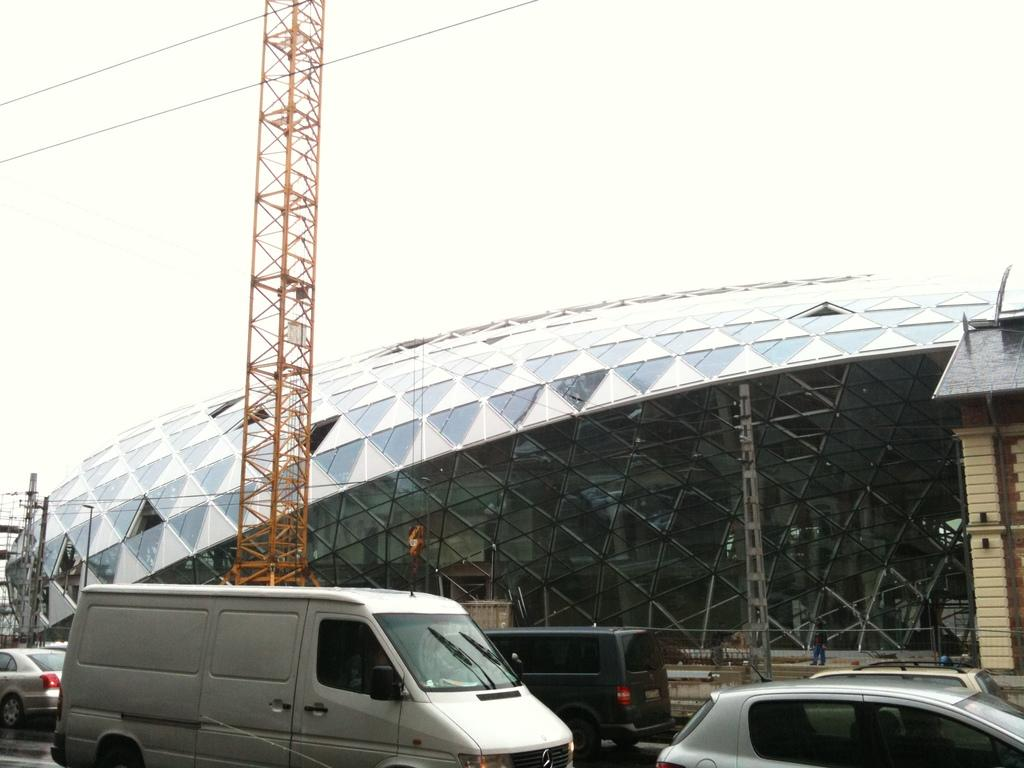vehicle: (50, 583, 574, 768), (419, 627, 674, 762), (658, 679, 1024, 768), (1, 647, 71, 732)
